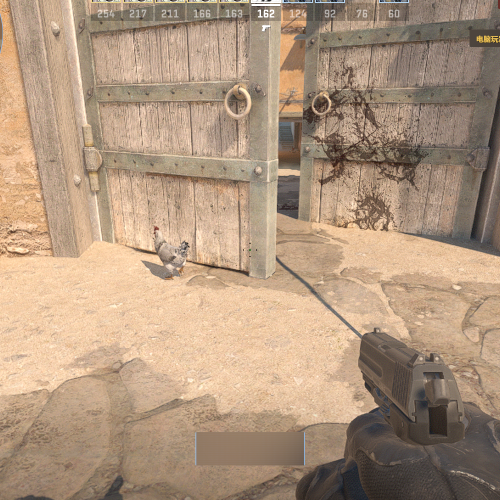chicken: (152, 224, 189, 282)
